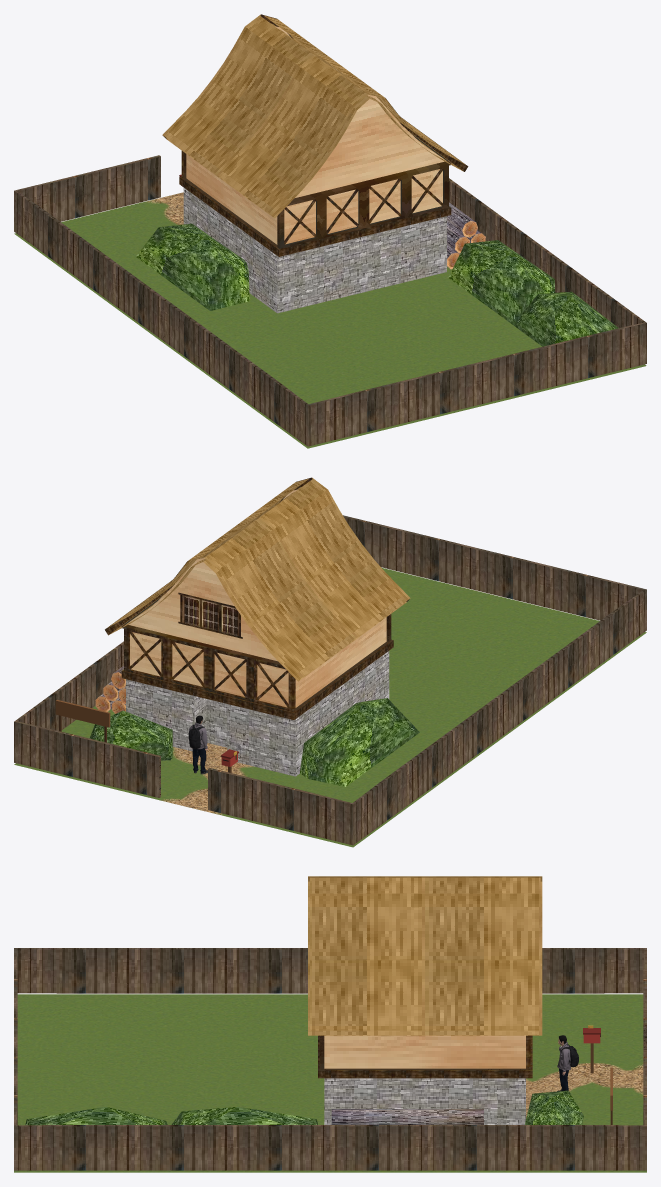
File: casa_model01.glb
3 renders of one model, top to bottom at view 1: azimuth 30°, elevation 25°; view 2: azimuth 150°, elevation 25°; view 3: azimuth 270°, elevation 25°, orthographic. The views are drawn at different scales.
Parts seen in each view (by area): view 1: espacio_lotes.001, espacio_lotes.003, Cube.001, Cube.003, Cube, Cube.002, Icosphere.003, Icosphere.002, Icosphere.001; view 2: espacio_lotes.001, espacio_lotes.003, Cube.001, Cube, Cube.003, Icosphere.003, Cube.002, Icosphere, Plane, cartel_casa_tabla, mico; view 3: espacio_lotes.003, espacio_lotes.001, Cube.001, Cube, Cube.003, Circle.006, Icosphere.002, Icosphere.001, Icosphere, mico.
Part boxes in pixels (box(x1,y1,x2,y2)): espacio_lotes.001: box(14, 155, 646, 446); espacio_lotes.003: box(14, 192, 646, 448); Cube.001: box(162, 14, 468, 218); Cube.003: box(183, 187, 446, 313); Cube: box(179, 133, 451, 256); Cube.002: box(275, 26, 445, 197); Icosphere.003: box(135, 223, 249, 310); Icosphere.002: box(448, 240, 555, 325); Icosphere.001: box(514, 291, 618, 346); espacio_lotes.001: box(14, 515, 646, 845); espacio_lotes.003: box(14, 568, 646, 847); Cube.001: box(105, 477, 410, 681); Cube: box(121, 597, 393, 719); Cube.003: box(126, 651, 389, 776); Icosphere.003: box(300, 698, 419, 786); Cube.002: box(127, 489, 297, 661); Icosphere: box(89, 710, 172, 760); Plane: box(178, 592, 242, 638); cartel_casa_tabla: box(55, 699, 110, 727); mico: box(188, 715, 208, 774); espacio_lotes.003: box(14, 994, 646, 1172); espacio_lotes.001: box(14, 948, 646, 1170); Cube.001: box(308, 876, 542, 1035); Cube: box(318, 1035, 532, 1078); Cube.003: box(324, 1078, 525, 1124); Circle.006: box(331, 1109, 483, 1124); Icosphere.002: box(171, 1106, 317, 1124); Icosphere.001: box(25, 1107, 167, 1125); Icosphere: box(525, 1090, 583, 1124); mico: box(557, 1035, 578, 1091).
Size of the model in its own units: 12 by 7.14 by 18.
Materials: 18 (11 with a texture image).
